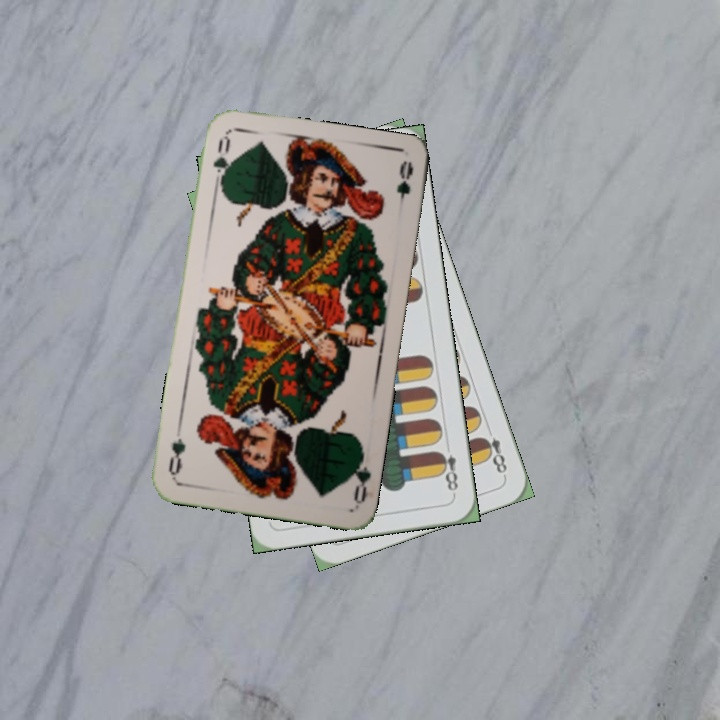E8: (434, 439, 461, 498), (477, 432, 510, 479)
GO: (345, 446, 374, 506), (209, 131, 233, 191)
